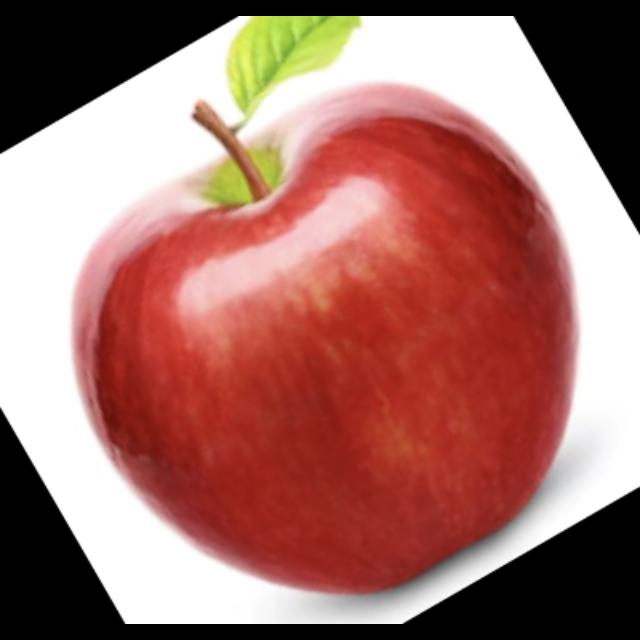Apel Segar: (59, 75, 588, 603)
